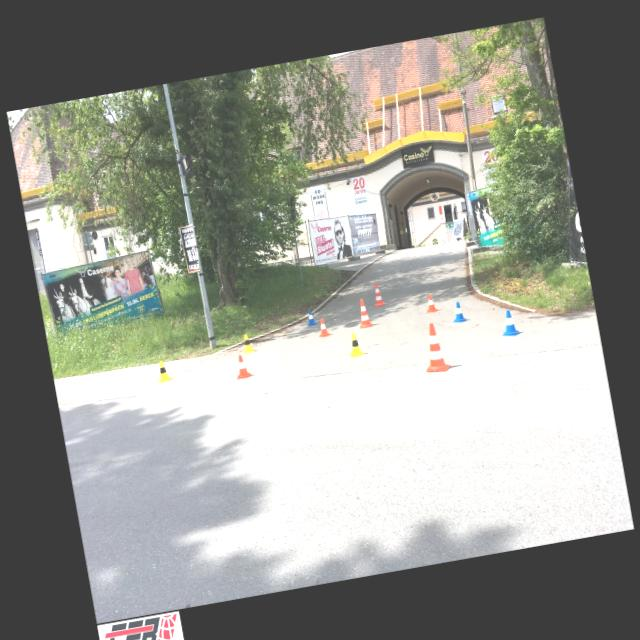blue_cone: (498, 308, 520, 337), (449, 300, 466, 323), (305, 308, 317, 326)
large_orange_cone: (418, 321, 451, 374), (355, 297, 373, 328), (370, 280, 386, 306)
orange_cone: (232, 354, 252, 379), (316, 317, 330, 337), (423, 294, 437, 312)
yellow_cone: (345, 330, 365, 358), (155, 360, 171, 382), (240, 332, 254, 353)
